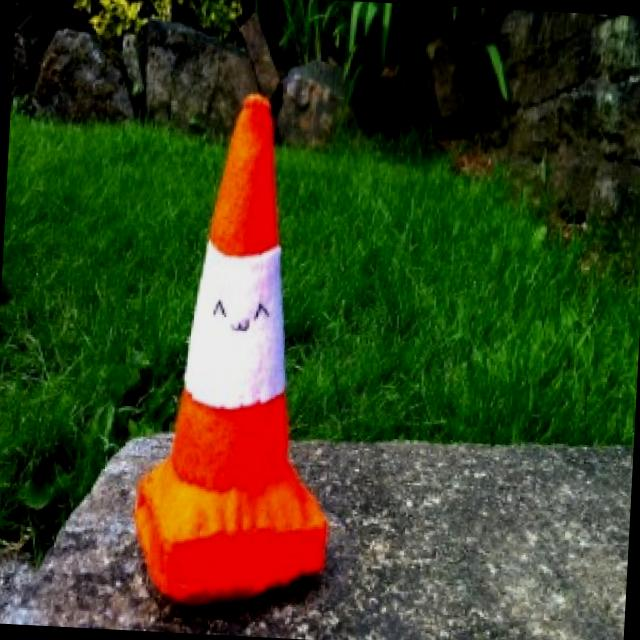cone: (130, 85, 353, 605)
